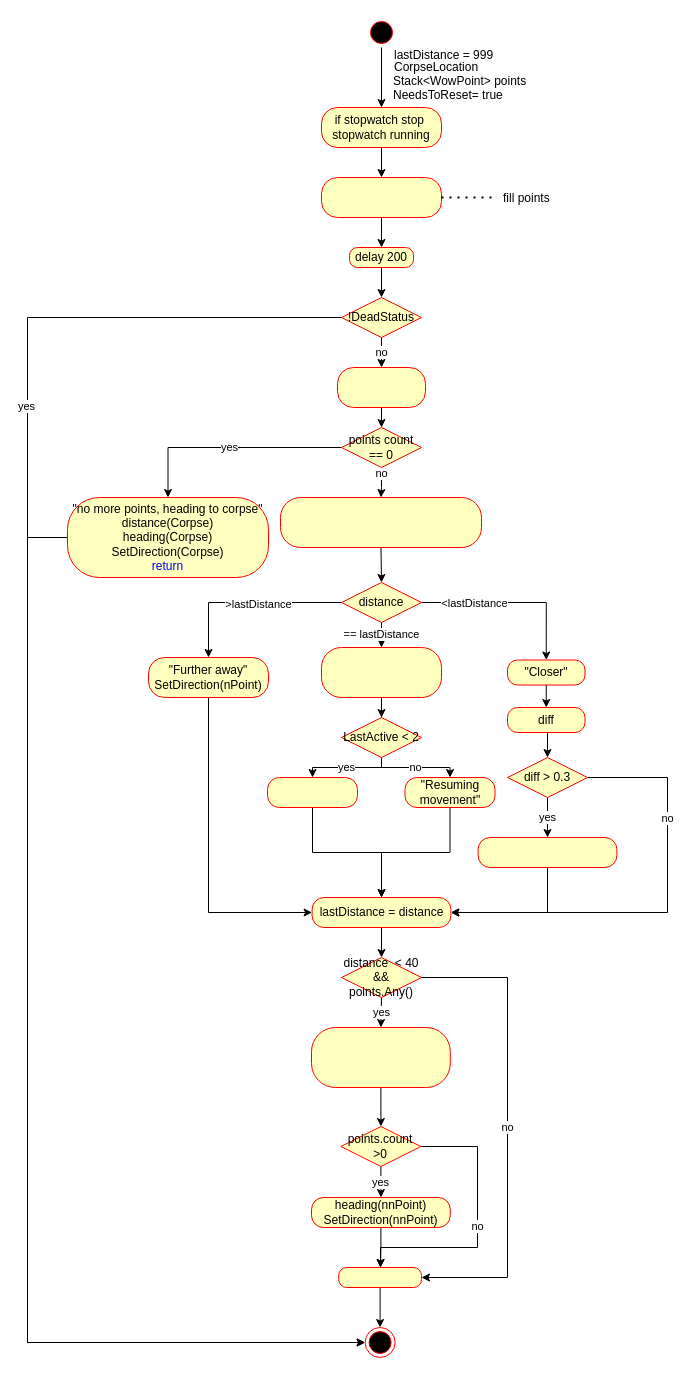
The diagram is 693 pixels wide and 1375 high, and some of its shapes have lost their labels. Here are the shapes that lost their labels. From the top down, the centre of each, then its label:
[381,197]: if NeedsToReset Reset()
[381,387]: location distance = 0 heading = 0
[381,522]: "get next point" distance(next point) heading(next point)
[381,672]: " Stuck " press UP delay 100
[312,792]: " Stuck " press SPACE
[547,852]: "Correcting direction" SetDirection(nPoint)
[380,1057]: "Move to next point" stopwatch.reset points.pop lastDistance = 999
[380,1277]: LastActive
